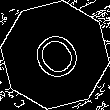O_SE: (22, 22, 88, 88)
